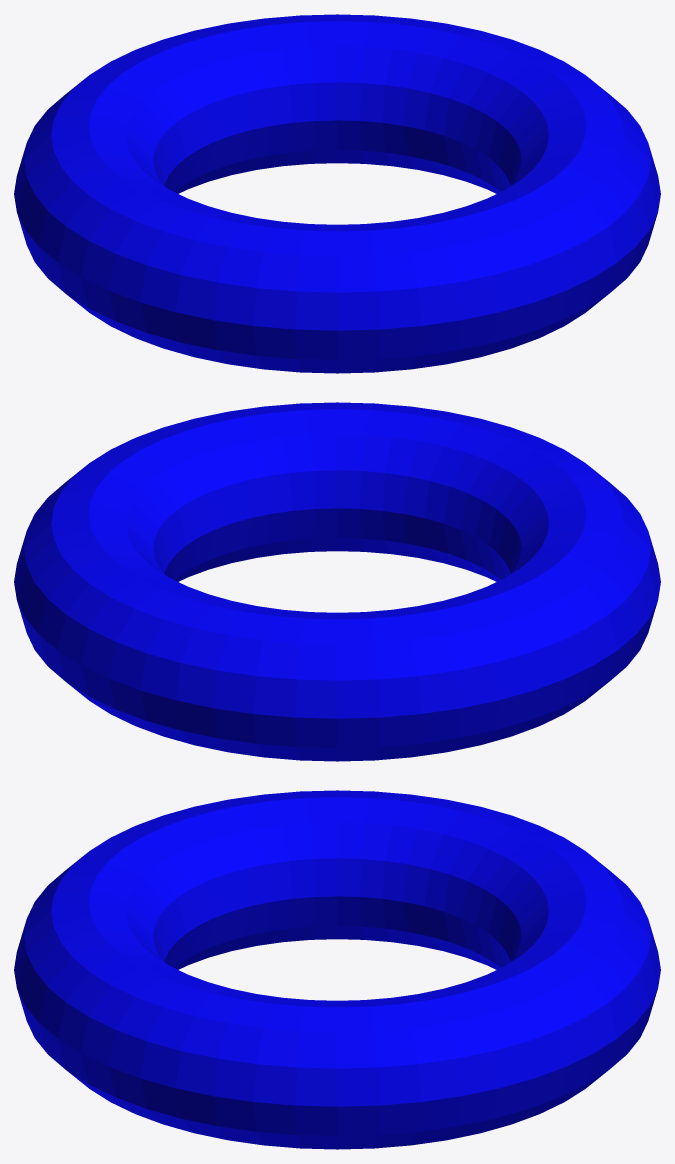
3 renders of one model, top to bottom at view 1: azimuth 30°, elevation 25°; view 2: azimuth 150°, elevation 25°; view 3: azimuth 270°, elevation 25°, orthographic.
Parts seen in each view (by area): view 1: torus; view 2: torus; view 3: torus.
Part boxes in pixels (x1,y1,x2,y2): torus: (14,14,660,373); torus: (14,402,660,761); torus: (14,790,660,1149).
Bounding box in the file's own units: 2.6 × 0.6 × 2.6.
